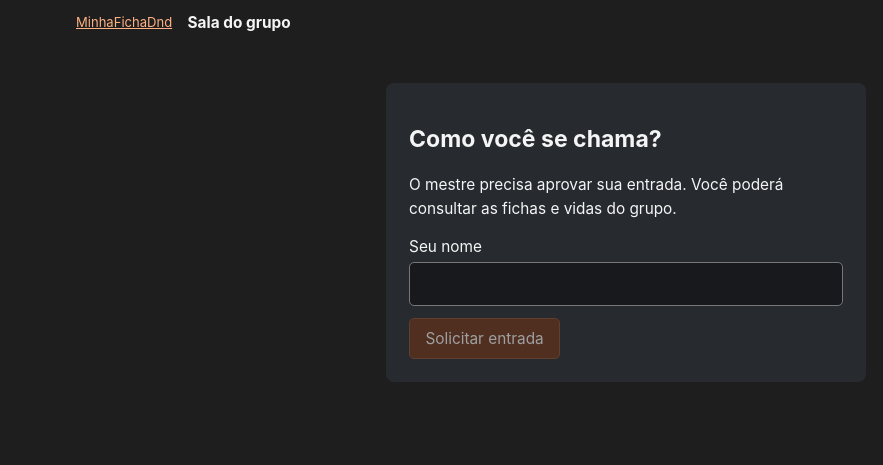
Test case: convite inválido não abre campanha nem carrega dados
This screenshot has width=883, height=465.
Type "Lia" into the field labelled "Seu nome" at (626, 284), box [409,262,843,306]
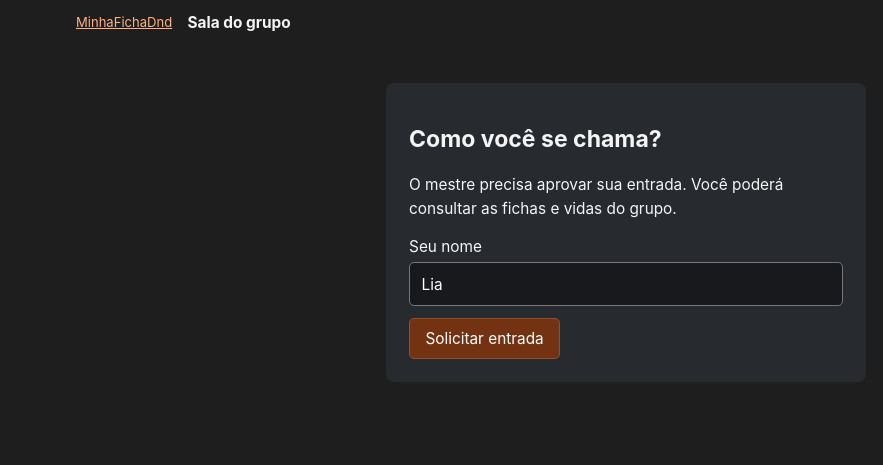
Click the button "Solicitar entrada" at (484, 338), box [409,318,560,359]
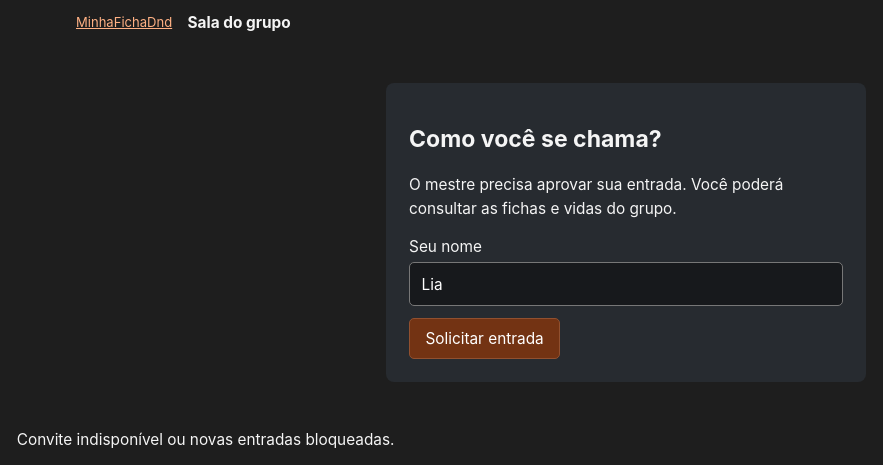
Check: the message "Convite indisponível ou novas entradas bloqueadas." is shown, box [17,430,394,449]
